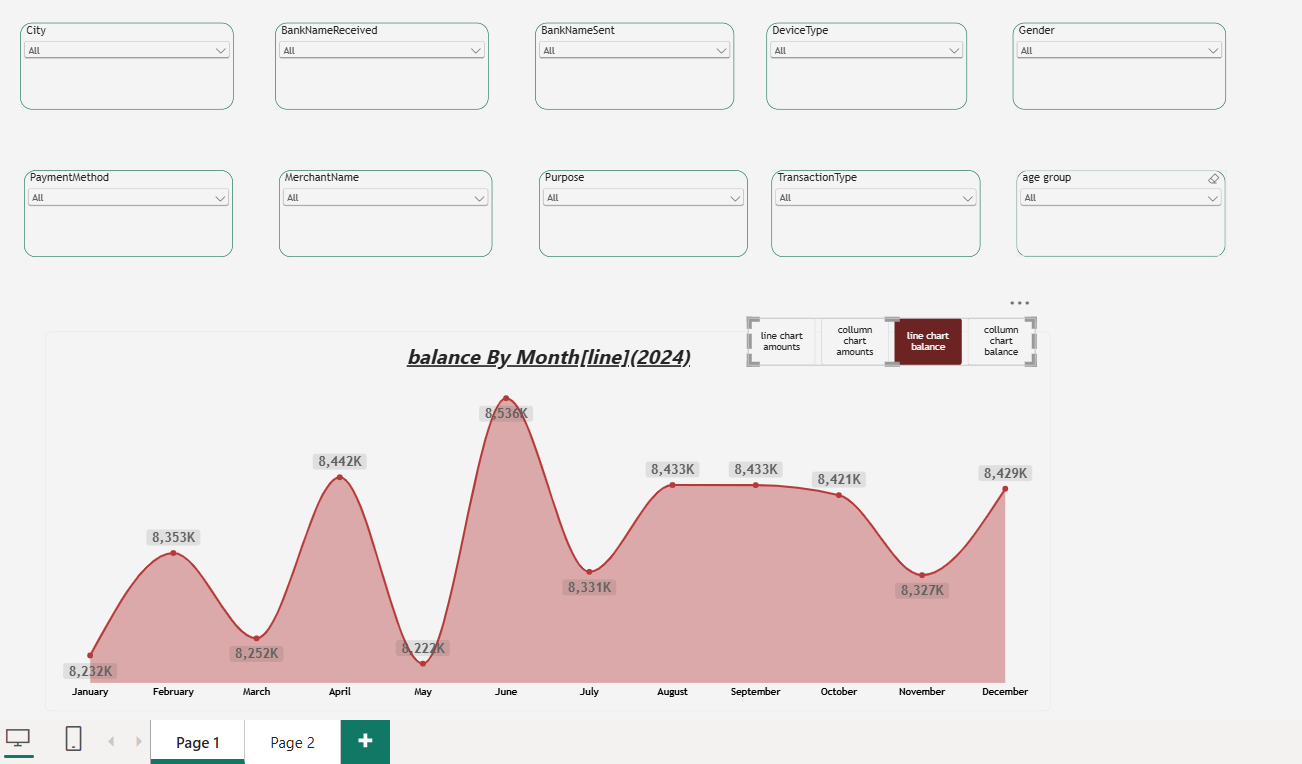

Layout of this report page (visuals, bound fields, positions):
{"tool":"powerbi","page":{"name":"Page 1","canvas":[1920,1080],"ordinal":0},"visuals":[{"type":"slicer","fields":{"Values":["upi transaction.City"]},"box":[30.9,70,308.7,125.6],"z":0},{"type":"slicer","fields":{"Values":["upi transaction.BankNameReceived"]},"box":[399.3,70,308.7,125.6],"z":1000},{"type":"slicer","fields":{"Values":["upi transaction.BankNameSent"]},"box":[776,70,288.2,125.6],"z":2000},{"type":"slicer","fields":{"Values":["upi transaction.DeviceType"]},"box":[1111.5,70,290.2,125.6],"z":3000},{"type":"slicer","fields":{"Values":["upi transaction.Gender"]},"box":[1467.6,70,308.7,125.6],"z":4000},{"type":"slicer","fields":{"Values":["upi transaction.PaymentMethod"]},"box":[37,284,302.6,125.6],"z":5000},{"type":"slicer","fields":{"Values":["upi transaction.MerchantName"]},"box":[405.5,284,308.7,125.6],"z":6000},{"type":"slicer","fields":{"Values":["upi transaction.Purpose"]},"box":[782.2,284,302.6,125.6],"z":7000},{"type":"slicer","fields":{"Values":["upi transaction.TransactionType"]},"box":[1117.7,284,302.6,125.6],"z":8000},{"type":"slicer","fields":{"Values":["upi transaction.age group"]},"box":[1473.8,284,302.6,125.6],"z":9000},{"type":"lineChart","title":"balance By Month[line](2024)","fields":{"Category":["upi transaction.TransactionDate.Variation.Date Hierarchy.Month"],"Y":["Sum(upi transaction.RemainingBalance)"]},"box":[67,517.8,1455.2,549.6],"z":14000},{"type":"bookmarkNavigator","box":[1084.9,497.2,416.2,69.4],"z":15500}]}

Visuals, with their boxes on the page's 1920x1080 design canvas (x1, y1, x2, y2). These are canvas units, not pixel positions in the 1302x764 screenshot, which may show the page scaled, cropped or inside an application window:
slicer - upi transaction.City: {"left": 31, "top": 70, "right": 340, "bottom": 196}
slicer - upi transaction.BankNameReceived: {"left": 399, "top": 70, "right": 708, "bottom": 196}
slicer - upi transaction.BankNameSent: {"left": 776, "top": 70, "right": 1064, "bottom": 196}
slicer - upi transaction.DeviceType: {"left": 1112, "top": 70, "right": 1402, "bottom": 196}
slicer - upi transaction.Gender: {"left": 1468, "top": 70, "right": 1776, "bottom": 196}
slicer - upi transaction.PaymentMethod: {"left": 37, "top": 284, "right": 340, "bottom": 410}
slicer - upi transaction.MerchantName: {"left": 406, "top": 284, "right": 714, "bottom": 410}
slicer - upi transaction.Purpose: {"left": 782, "top": 284, "right": 1085, "bottom": 410}
slicer - upi transaction.TransactionType: {"left": 1118, "top": 284, "right": 1420, "bottom": 410}
slicer - upi transaction.age group: {"left": 1474, "top": 284, "right": 1776, "bottom": 410}
"balance By Month[line](2024)" lineChart: {"left": 67, "top": 518, "right": 1522, "bottom": 1067}
bookmarkNavigator: {"left": 1085, "top": 497, "right": 1501, "bottom": 567}
